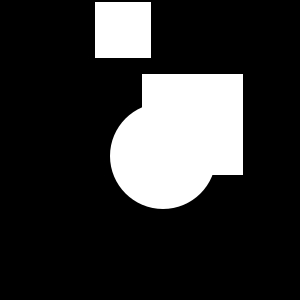circle: (142, 74, 243, 175), (95, 2, 151, 58)
rectangle: (110, 103, 216, 209)
